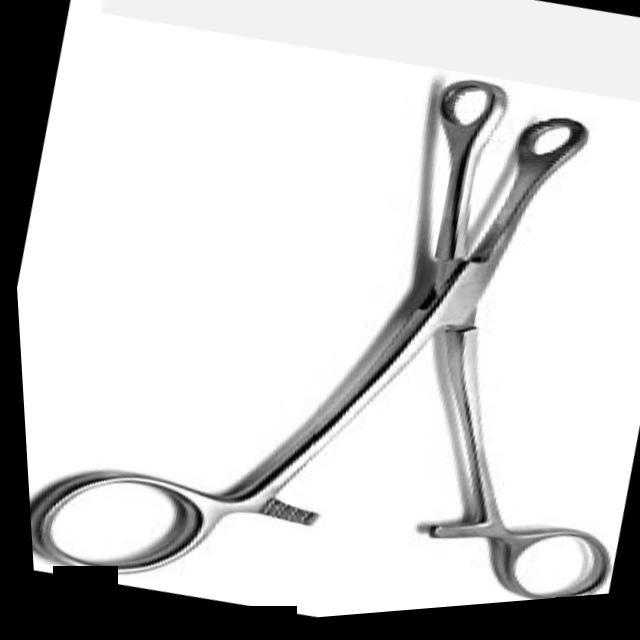Sponge Holding Forceps: (1, 0, 640, 640)
